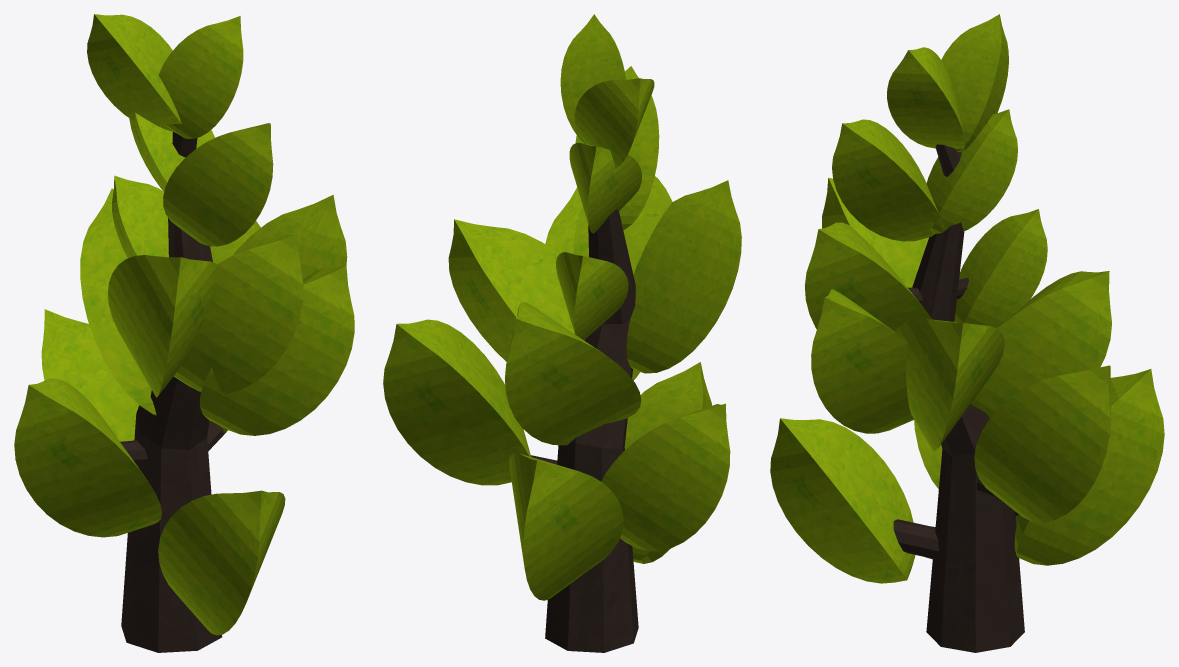
File: tree-bright-green-flowers_5.fbx
The picture shows the model from 3 angles, left to right: view 1: azimuth 30°, elevation 25°; view 2: azimuth 150°, elevation 25°; view 3: azimuth 270°, elevation 25°; orthographic projection. The views are drawn at different scales.
Visible parts, largest first — view 1: Icosphere.091; view 2: Icosphere.091; view 3: Icosphere.091.
Boxes of the visible parts, bbox=[...] form: Icosphere.091: bbox=[14, 14, 354, 652]; Icosphere.091: bbox=[383, 14, 741, 652]; Icosphere.091: bbox=[770, 14, 1164, 652].
Size of the model in its own units: 123 by 234 by 140.
